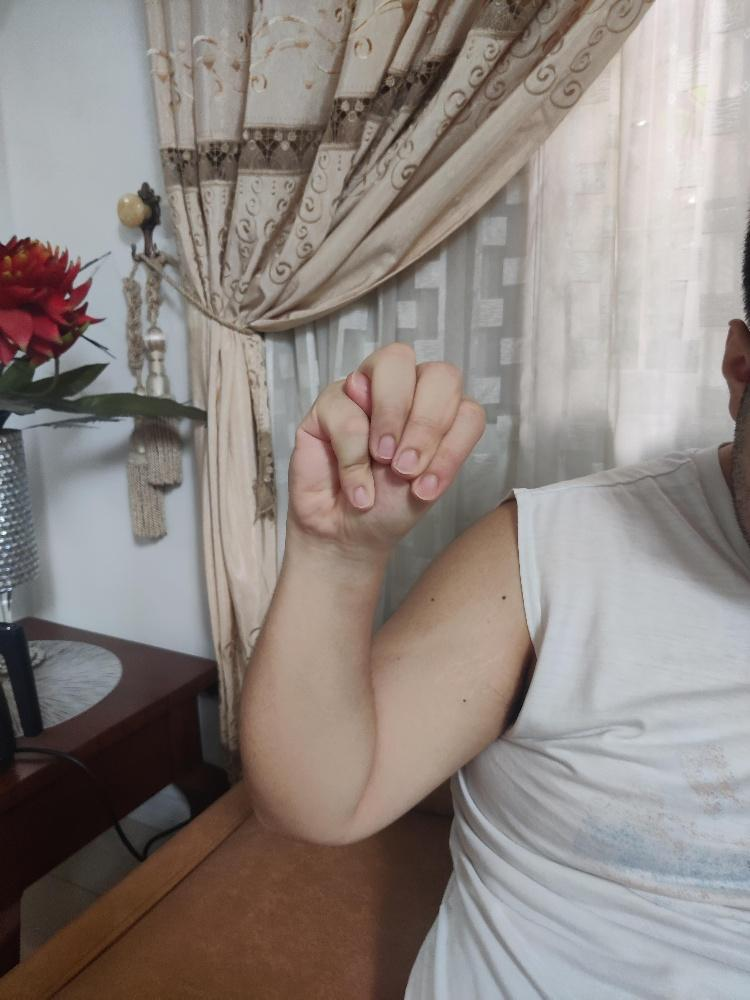m: (286, 340, 488, 549)
